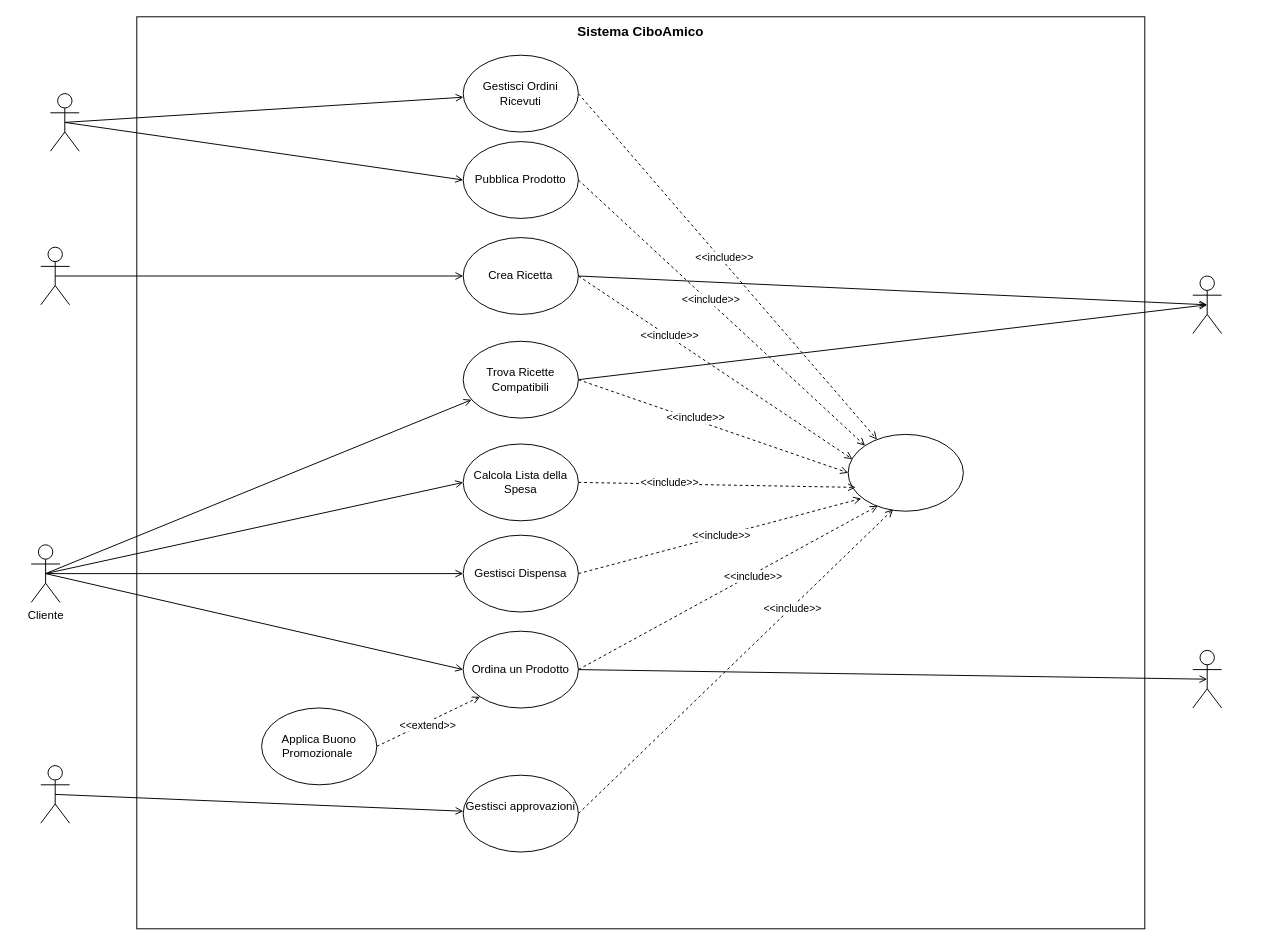
This 1267x946 diagram has some shape labels left out. Each missing label, with the centre of its shape:
"Amministratore" goes at [55,794].
"Autenticati" goes at [905,472].
"Nutrizionista" goes at [55,275].
"OpenFoodFacts" goes at [1207,304].
"Payment Service" goes at [1207,678].
"Venditore" goes at [64,122].
